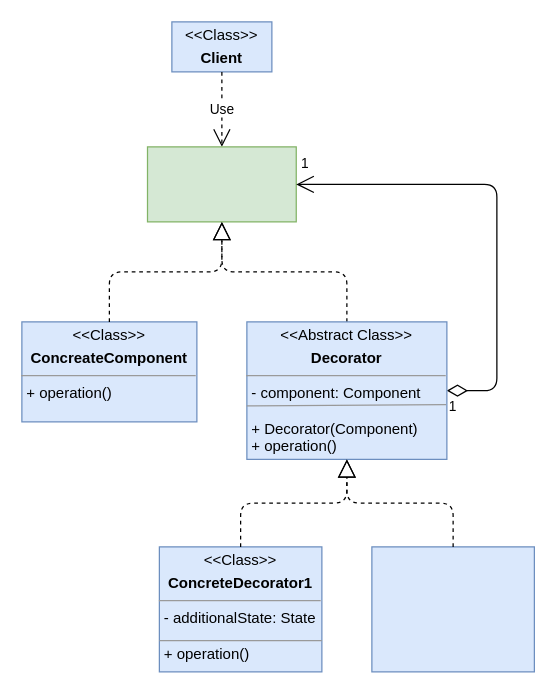
Some shapes in this 556 by 694 pixel diagram are drawn without their labels. The shapes that lost their labels are listed below. From the top down, each one's box as (x1, y1, x2, y2) in pixels, then its label:
(146, 146, 296, 222): Component + operation()
(371, 546, 534, 672): <<Class>> ConcreteDecorator2 + operation() + additionalBehavior()
